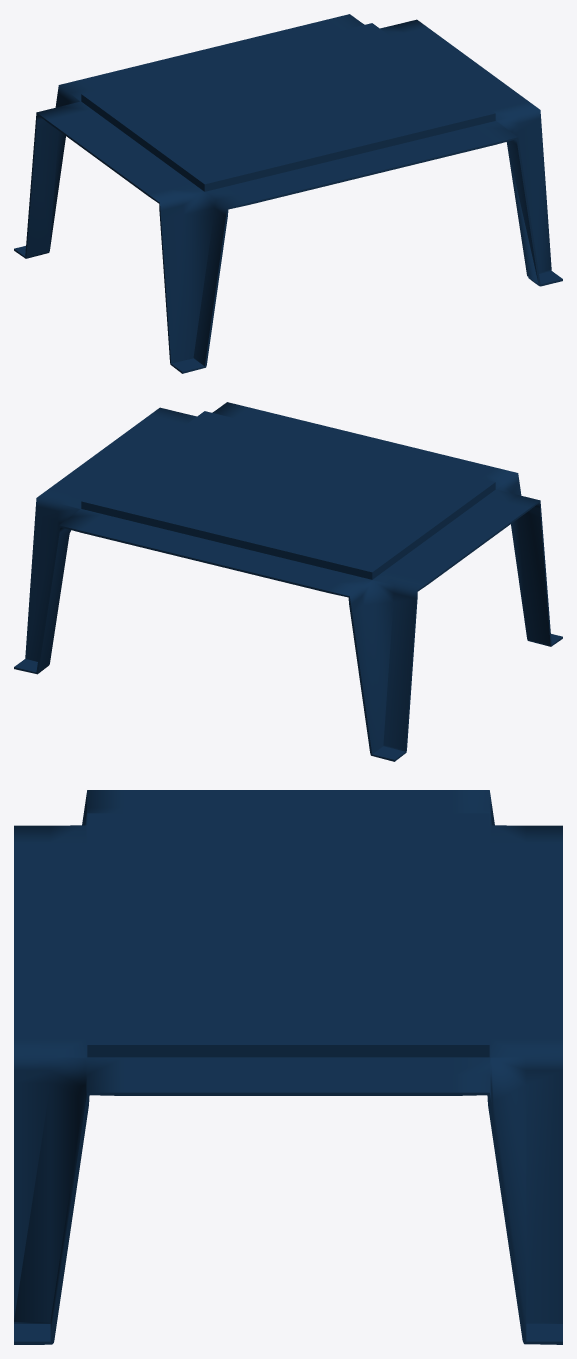
Rendered from Mesa.FBX.
3 views of the same model, one above another, from view 1: azimuth 30°, elevation 25°; view 2: azimuth 150°, elevation 25°; view 3: azimuth 270°, elevation 25° (orthographic). The views are drawn at different scales.
Visible parts, largest first — view 1: Plane001; view 2: Plane001; view 3: Plane001.
Boxes of the visible parts, bbox=[...] form: Plane001: bbox=[14, 14, 562, 373]; Plane001: bbox=[14, 402, 562, 761]; Plane001: bbox=[14, 790, 562, 1344].
Bounding box in the file's own units: 39.75 × 16.18 × 30.46.
